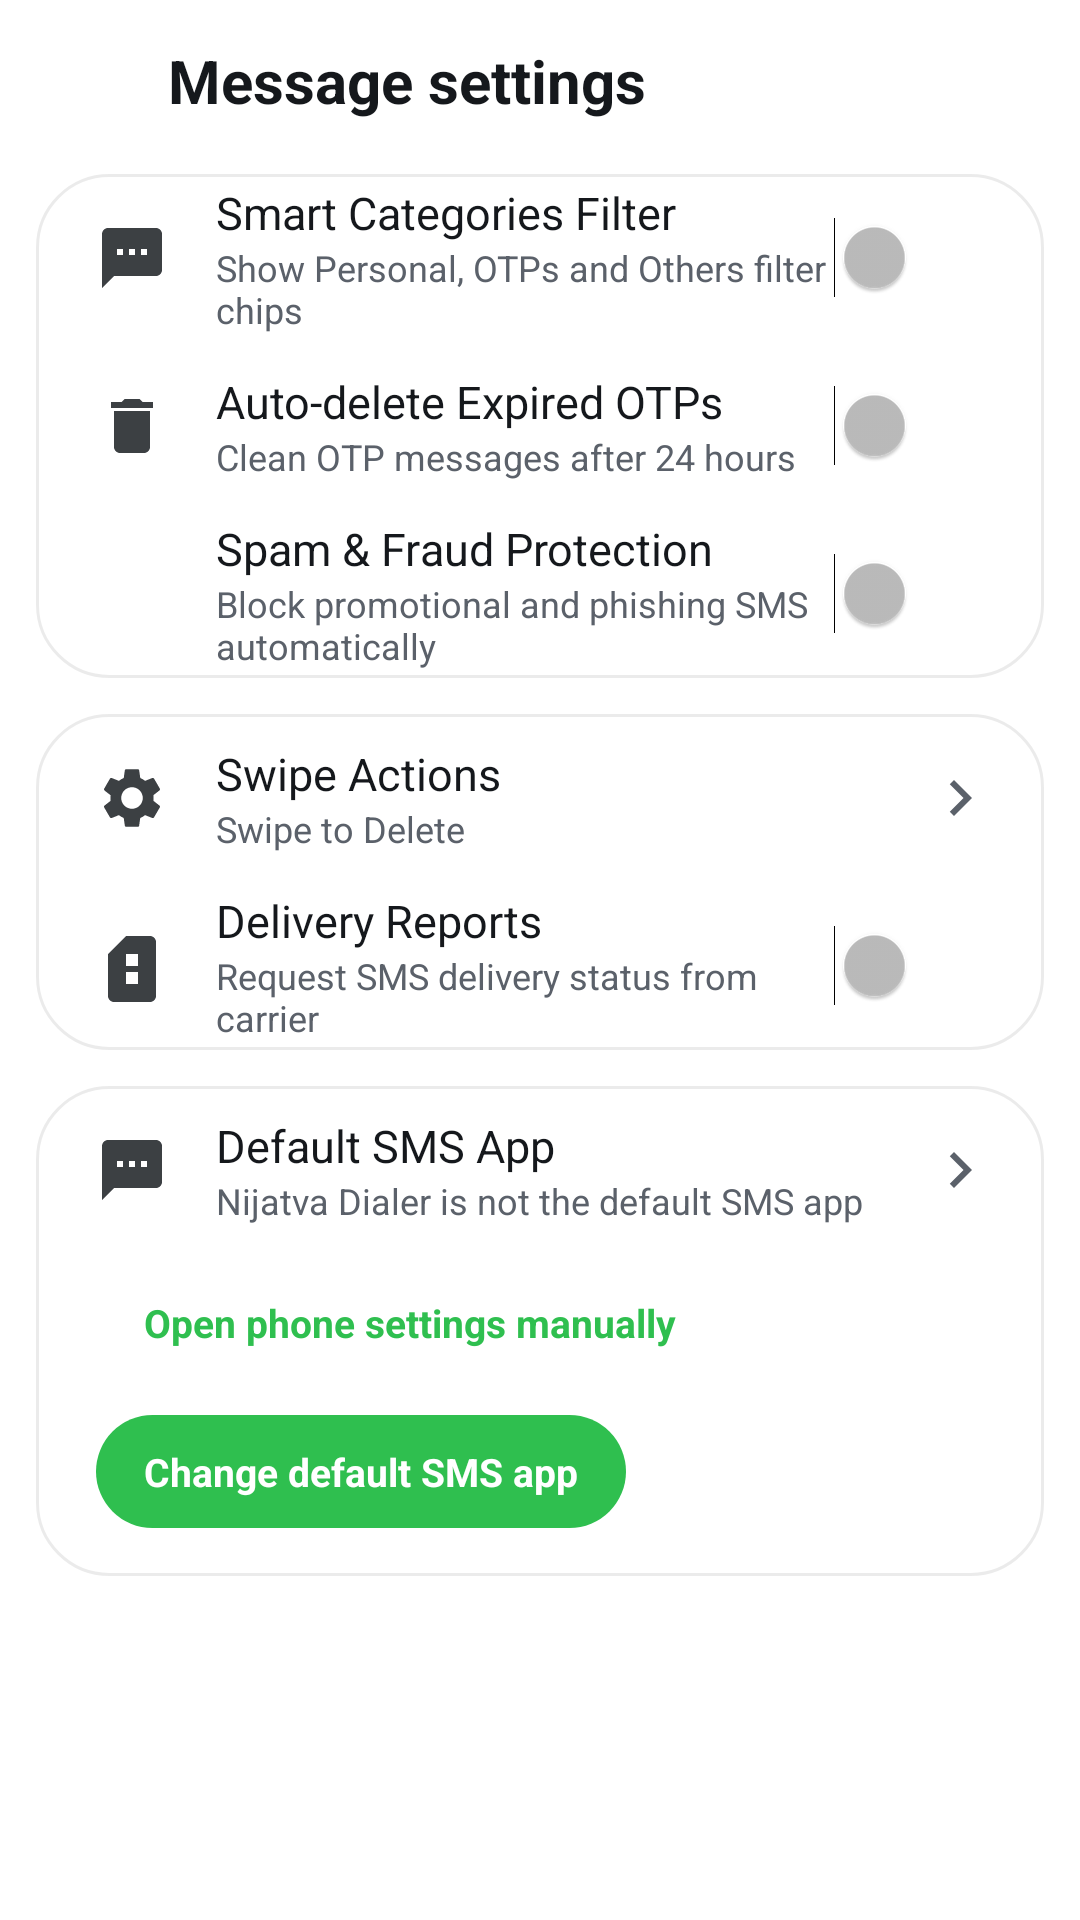

Locate icon controls on the screen. Image size 1080×1920, boxes as (x1, y1, x2, y2).
chevron: (950, 780, 972, 816), (950, 1152, 972, 1188)
message: (102, 1140, 162, 1200)
settings: (104, 769, 160, 827)
